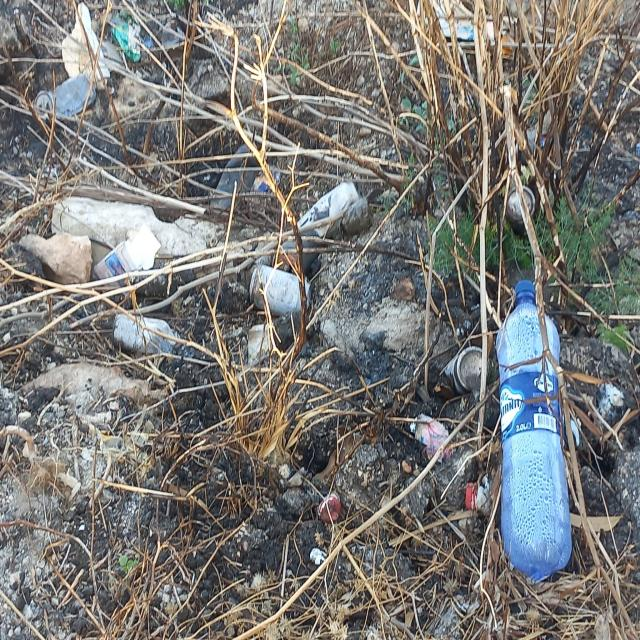Bottle: (495, 280, 572, 572)
Bottle cap: (319, 495, 340, 525)
Can: (212, 143, 261, 214), (294, 180, 358, 232), (34, 72, 95, 125), (249, 267, 309, 317), (112, 313, 182, 353), (446, 346, 491, 392), (505, 182, 536, 224), (253, 167, 285, 197)
Carton: (93, 225, 162, 291)
Other litter: (61, 4, 122, 88), (411, 414, 455, 463), (307, 545, 328, 566)
Other plastic: (465, 473, 491, 514)
Plastic bag - wrapper: (110, 8, 146, 65)
